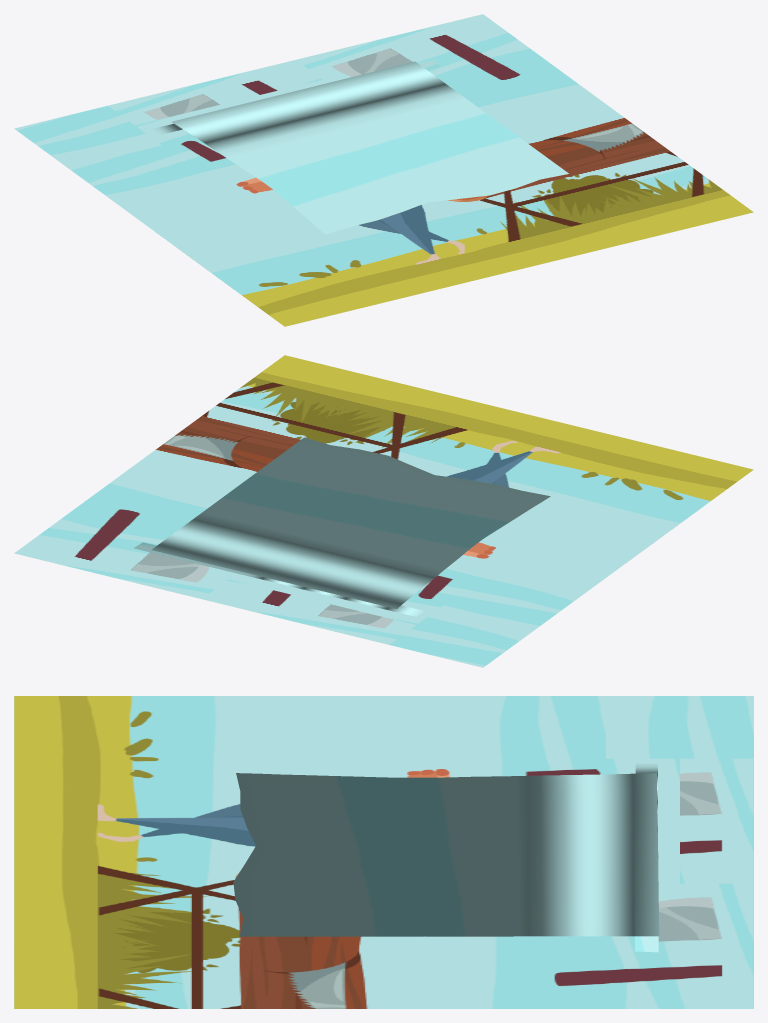
The picture shows the model from 3 angles, top to bottom: view 1: azimuth 30°, elevation 25°; view 2: azimuth 150°, elevation 25°; view 3: azimuth 270°, elevation 25°; orthographic projection. The views are drawn at different scales.
Visible parts, largest first — view 1: mesh, blend_02; view 2: mesh, blend_02, blend_01; view 3: mesh, blend_02, blend_01.
Boxes of the visible parts, <box> form: mesh: <box>14,14,753,326</box>; blend_02: <box>171,61,568,234</box>; mesh: <box>14,355,753,667</box>; blend_02: <box>151,437,550,608</box>; blend_01: <box>134,542,423,616</box>; mesh: <box>14,696,753,1008</box>; blend_02: <box>233,773,659,936</box>; blend_01: <box>635,763,658,952</box>.
Size of the model in its own units: 2400 by 15.13 by 2400.
